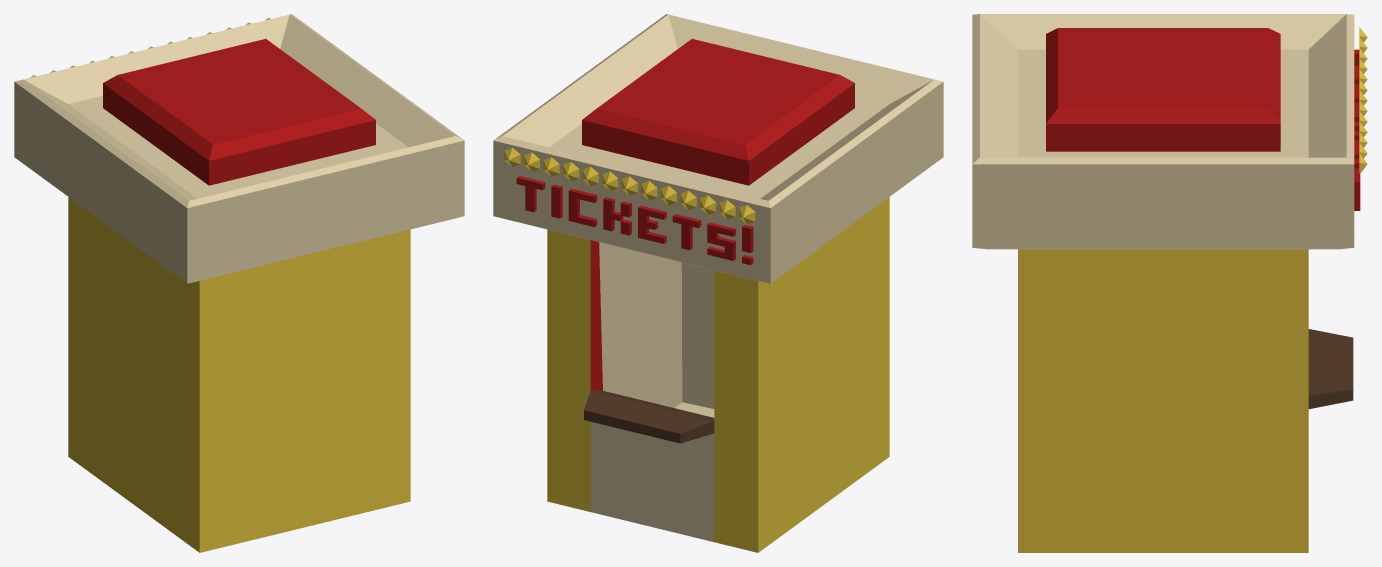
The model's file is ticketbooth.fbx.
3 renders of one model, left to right at view 1: azimuth 30°, elevation 25°; view 2: azimuth 150°, elevation 25°; view 3: azimuth 270°, elevation 25°, orthographic. The views are drawn at different scales.
Visible parts, largest first — view 1: tickets; view 2: tickets; view 3: tickets.
Part boxes in pixels (x1,y1,x2,y2): tickets: (14,14,464,552); tickets: (493,14,943,552); tickets: (972,14,1367,552).
Bounding box in the file's own units: 215 × 193 × 257.
